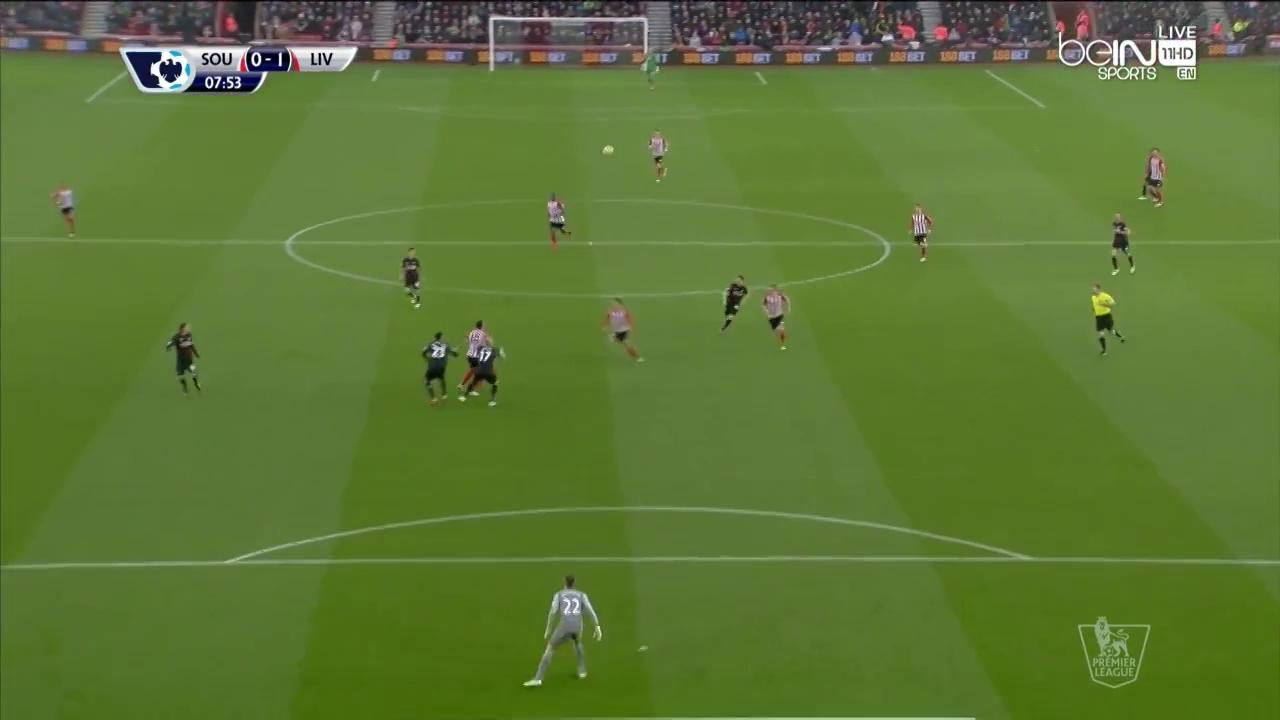football: (600, 144, 616, 157)
